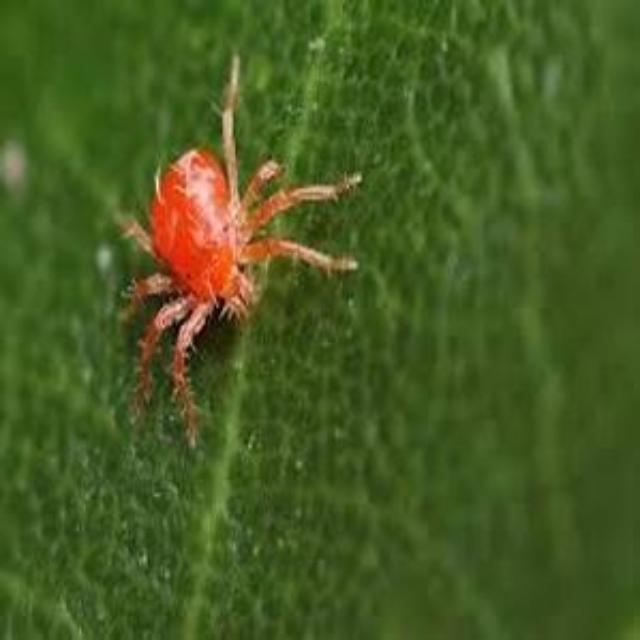spider mite: (59, 90, 359, 426)
